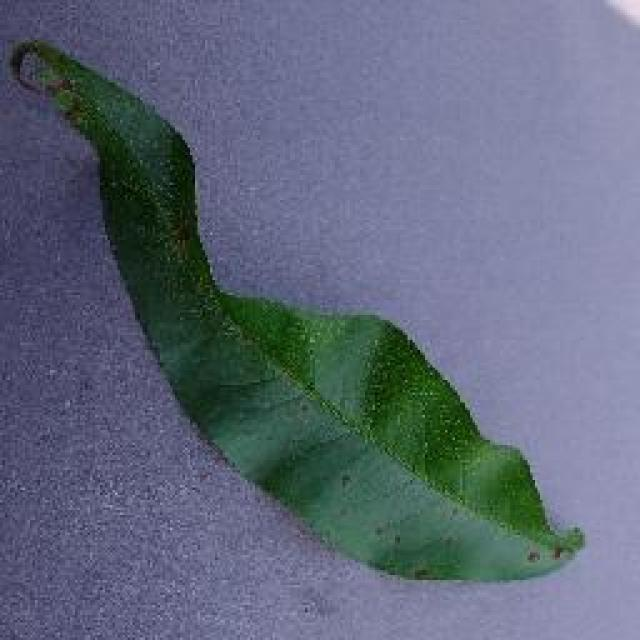Peach_Bacterial_Spot: (207, 300, 595, 562)
